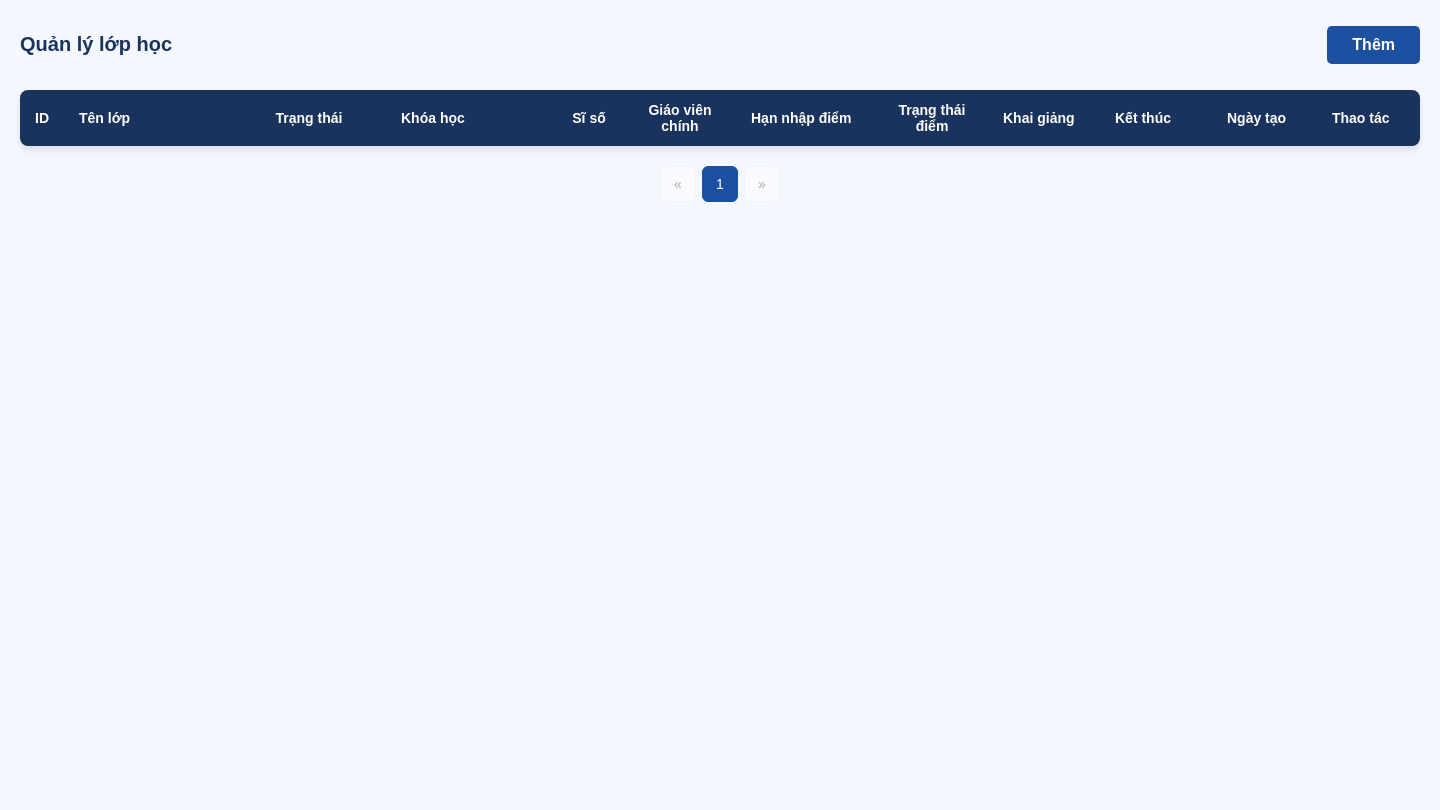
Scenario: ClassManagement › 3. validate form › CLS-010 hiển thị lỗi khi ngày kết thúc trước ngày khai giảng
This screenshot has width=1440, height=810.
Click the button "Thêm" at coordinates (1374, 45), box top-left (1327, 26), bottom-right (1420, 64)
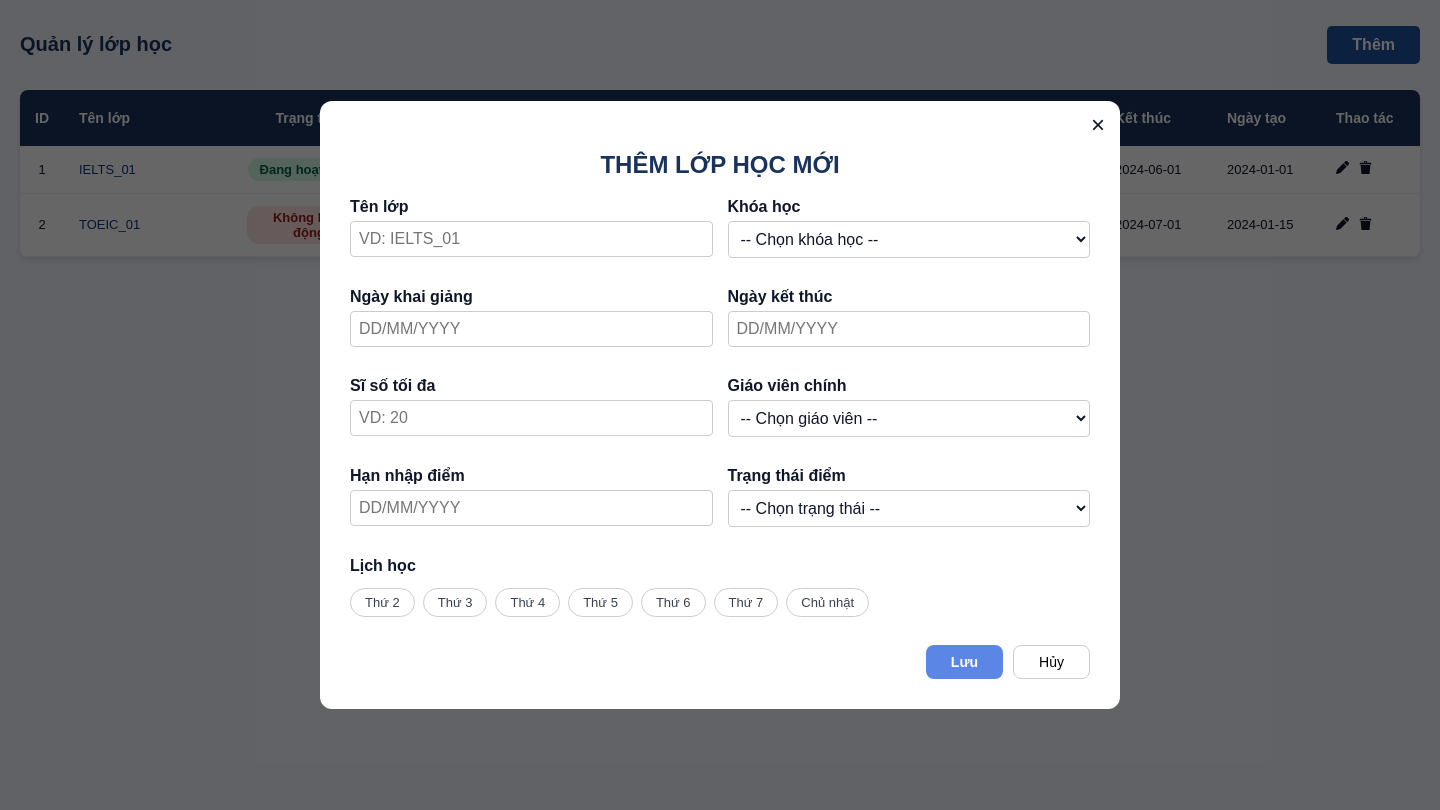
Now the heading "THÊM LỚP HỌC MỚI" is shown, box top-left (600, 150), bottom-right (840, 178)
Type "IELTS_02" into the field named "name" at coordinates (531, 239), box top-left (350, 221), bottom-right (712, 257)
Select "IELTS Basic" in the 1st dropdown named "course" at coordinates (909, 240), box top-left (728, 221), bottom-right (1090, 258)
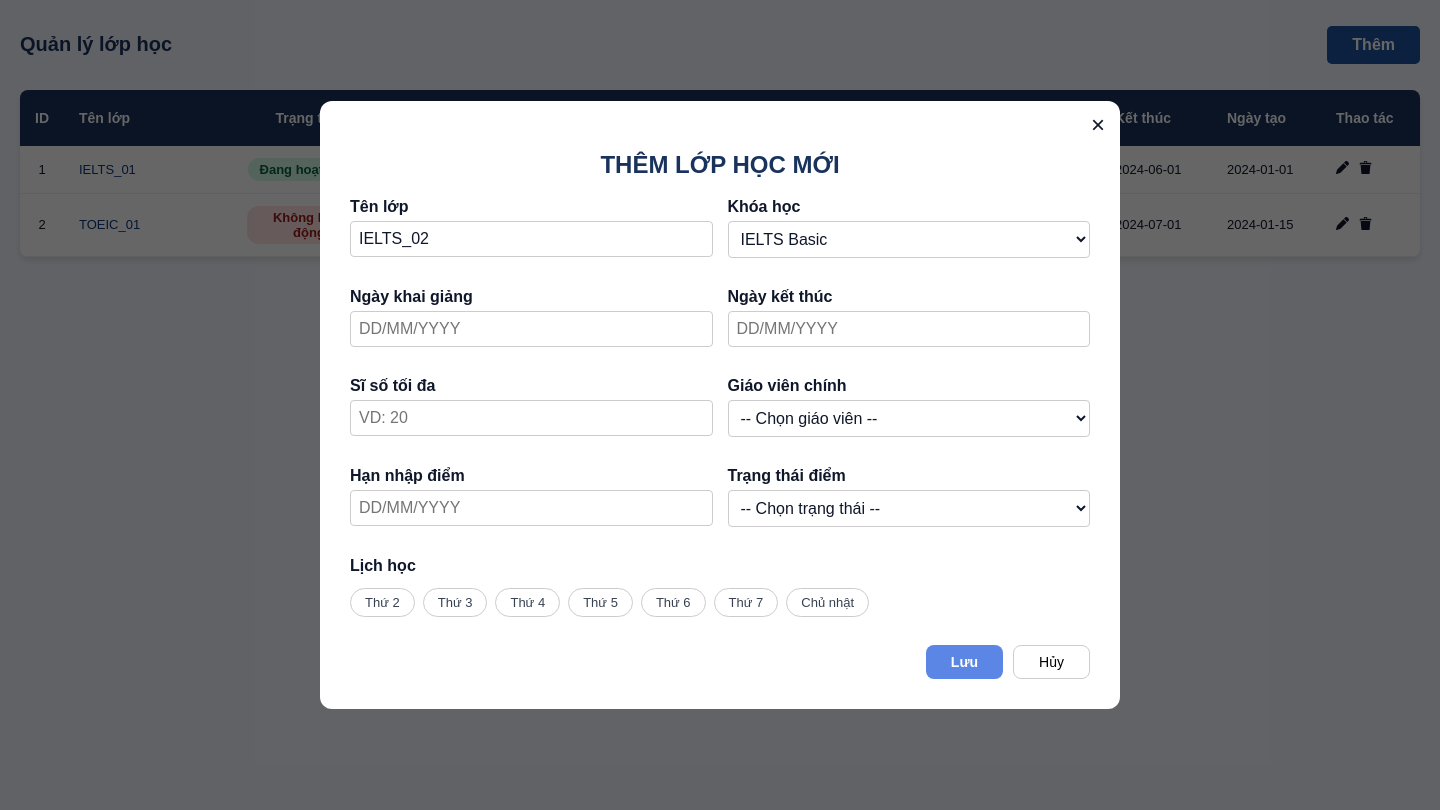
Type "20" into the number field named "capacity" at coordinates (531, 418), box top-left (350, 400), bottom-right (712, 436)
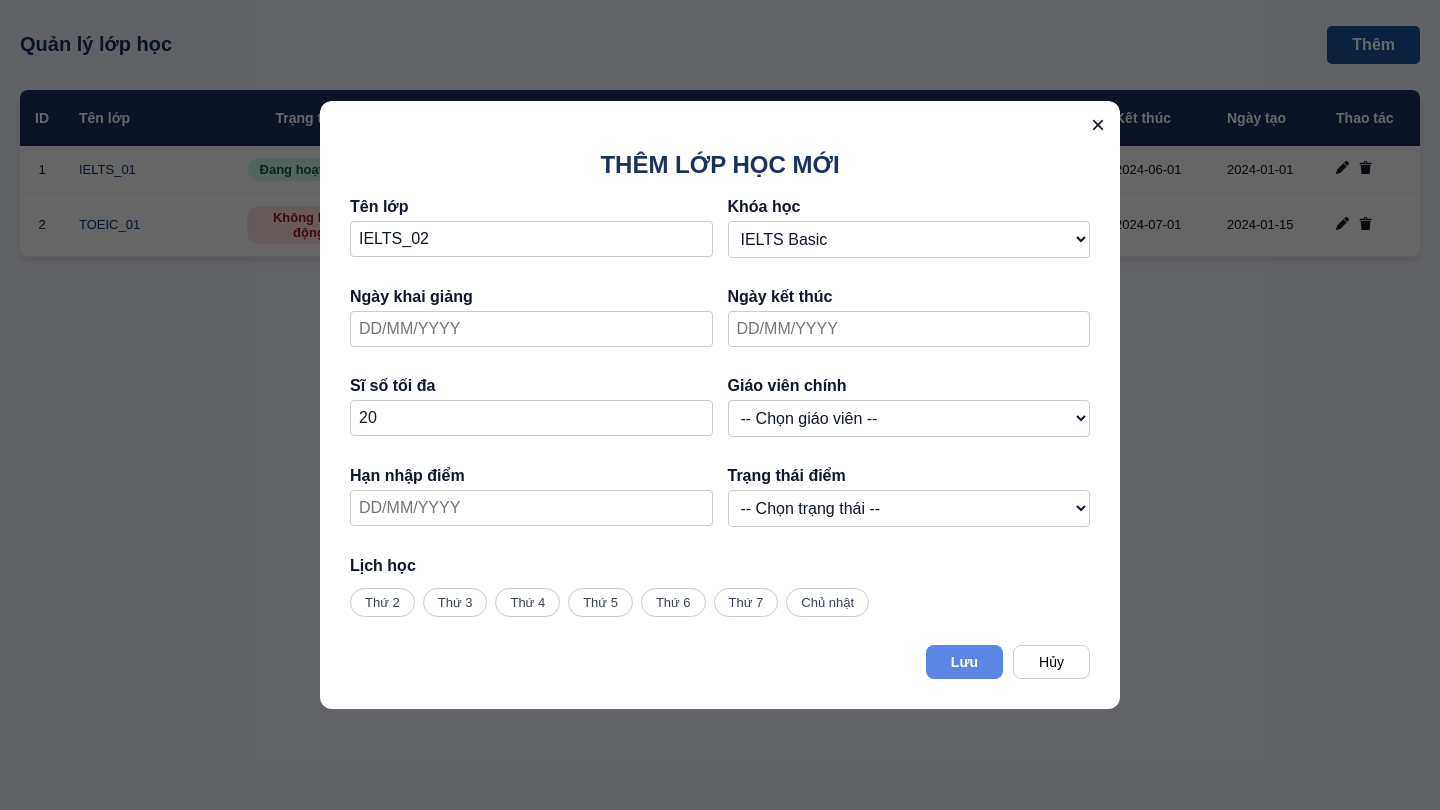
Type "2024-06-01" into the field with placeholder "DD/MM/YYYY" below "Ngày khai giảng" at coordinates (531, 329), box top-left (350, 311), bottom-right (712, 347)
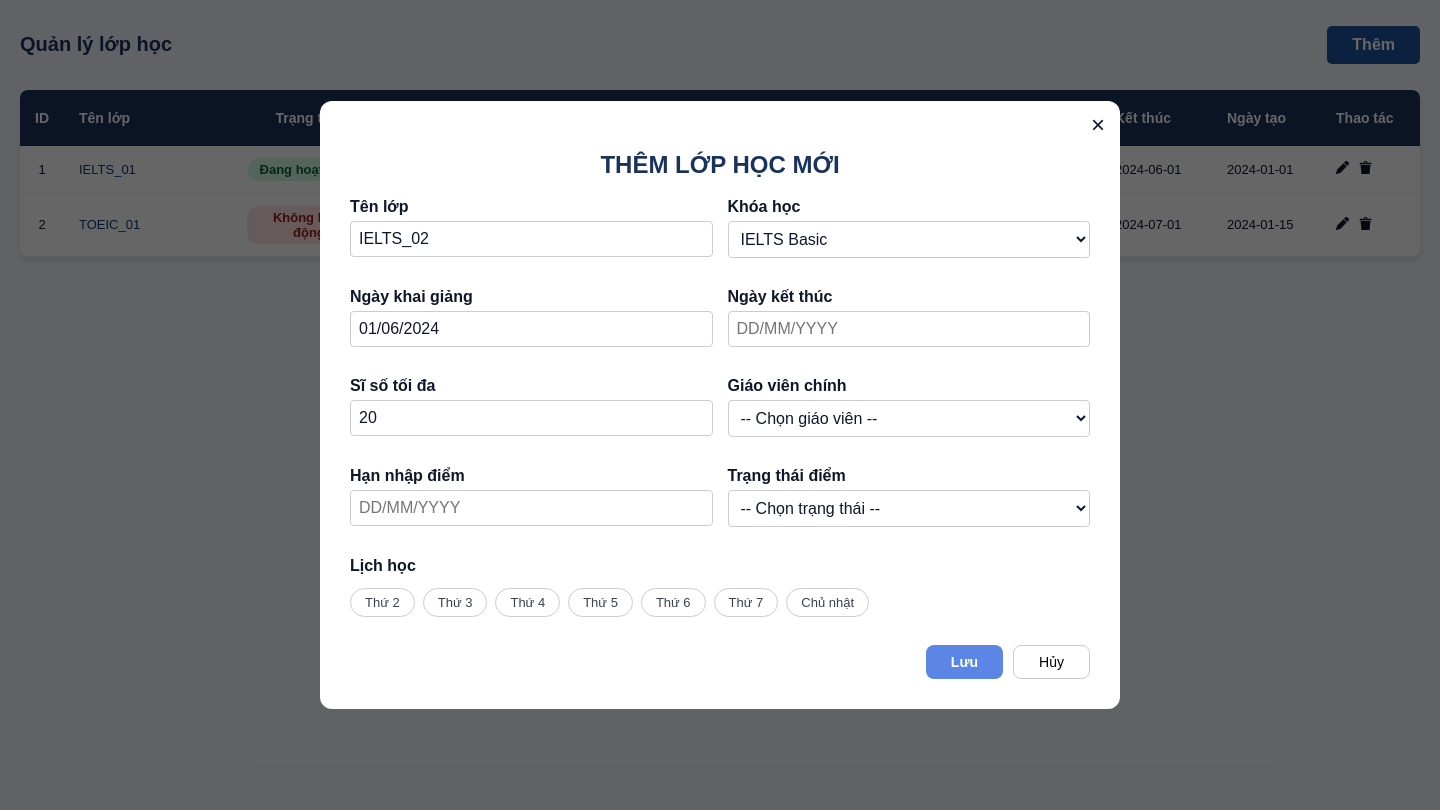
Type "2024-06-01" into the field with placeholder "DD/MM/YYYY" below "Ngày kết thúc" at coordinates (909, 329), box top-left (728, 311), bottom-right (1090, 347)
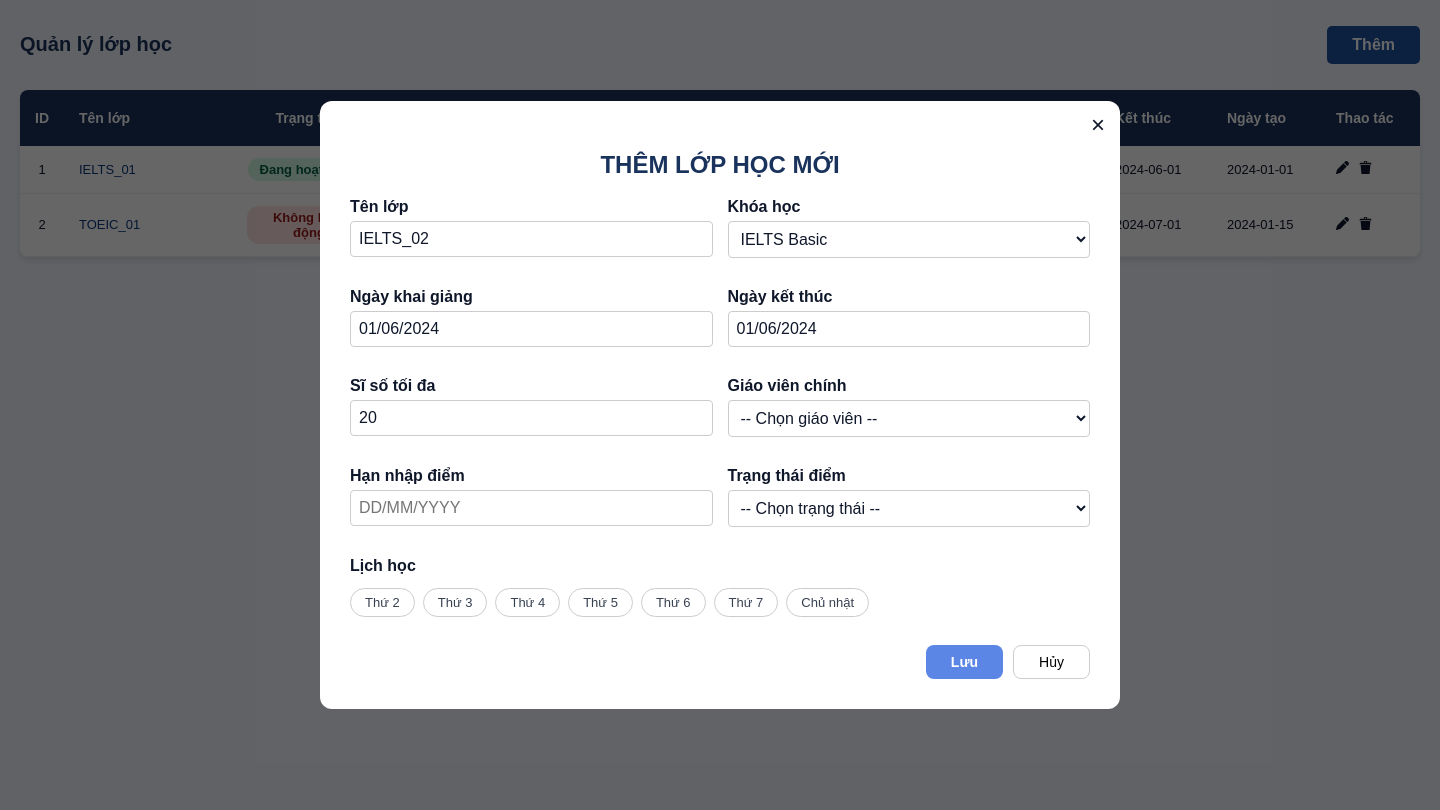
Click the button "Lưu" at coordinates (964, 662), box top-left (926, 645), bottom-right (1003, 679)
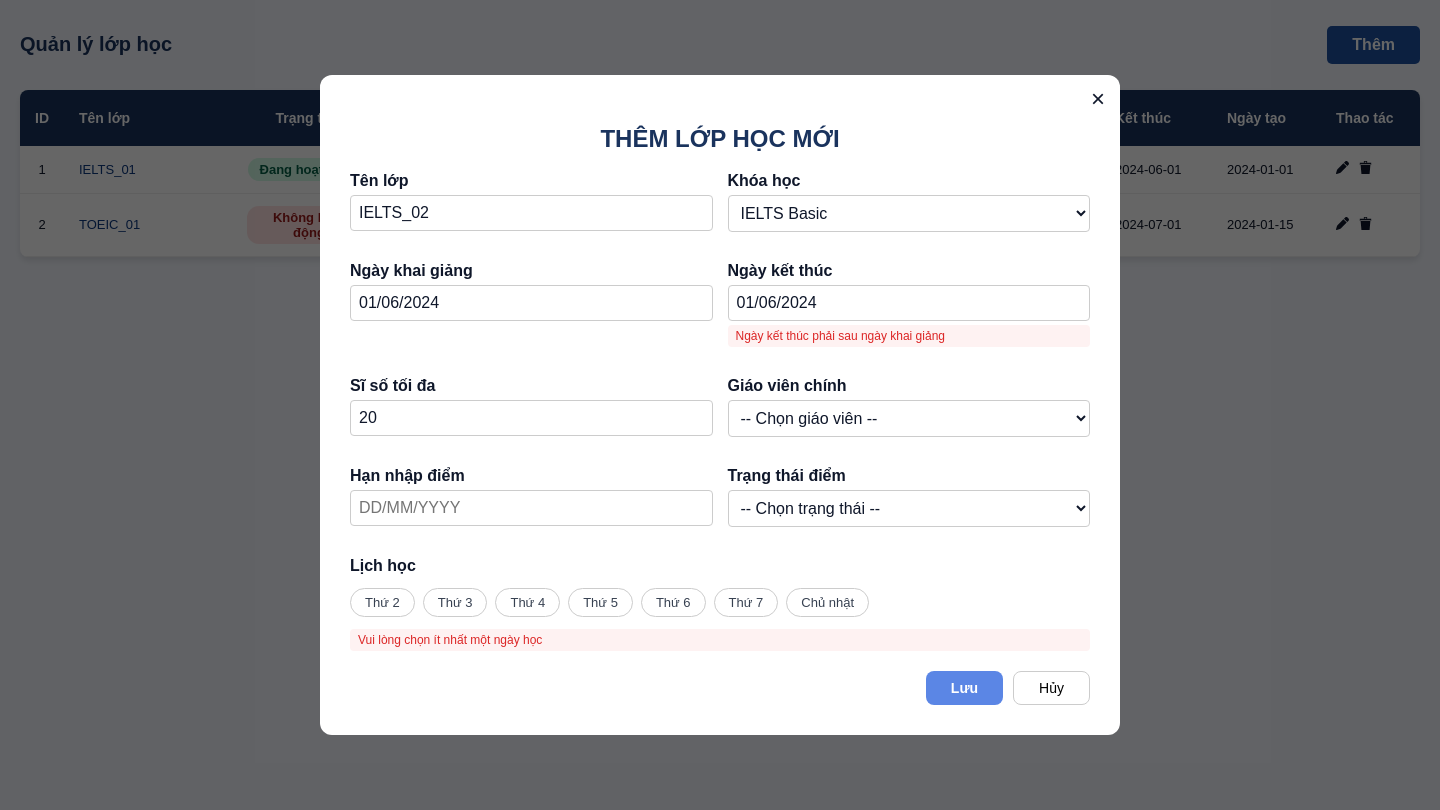
Now the text "Ngày kết thúc phải sau ngày khai giảng" is shown, box top-left (728, 325), bottom-right (1090, 347)
